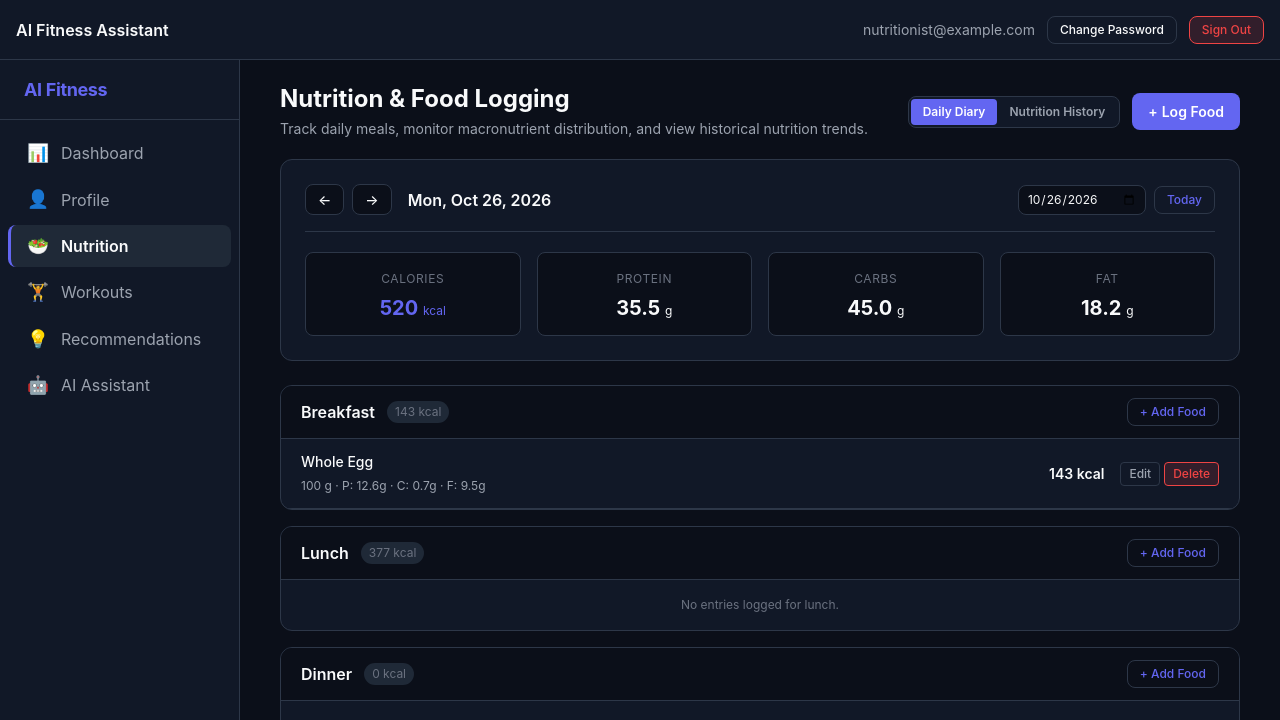
Test: Phase 8E — Nutrition & Food Logging Tests › 5. food search requests foods and renders matching results
Step 1. Click the button "+ Log Food" → [1186, 112], box [1132,93,1240,130]
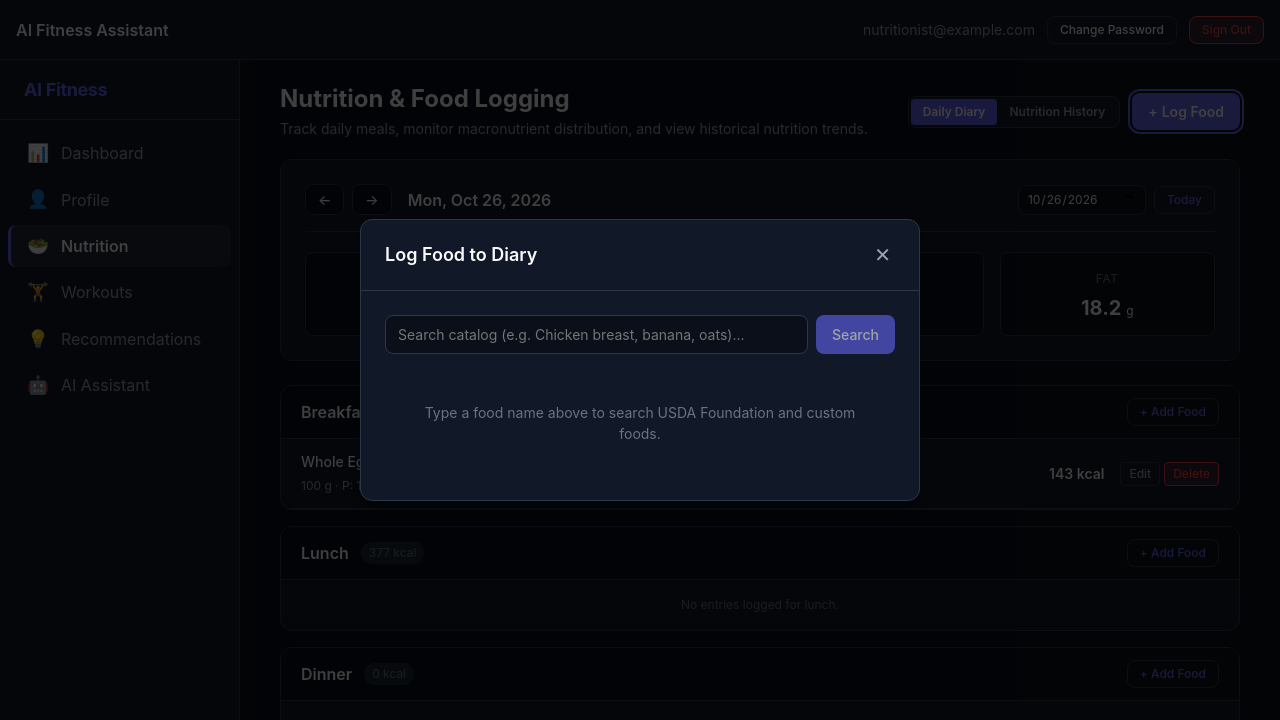
Check: the dialog is shown
Step 2. Type "egg" into the field named "search food catalog" → [596, 334], box [385,315,808,354]
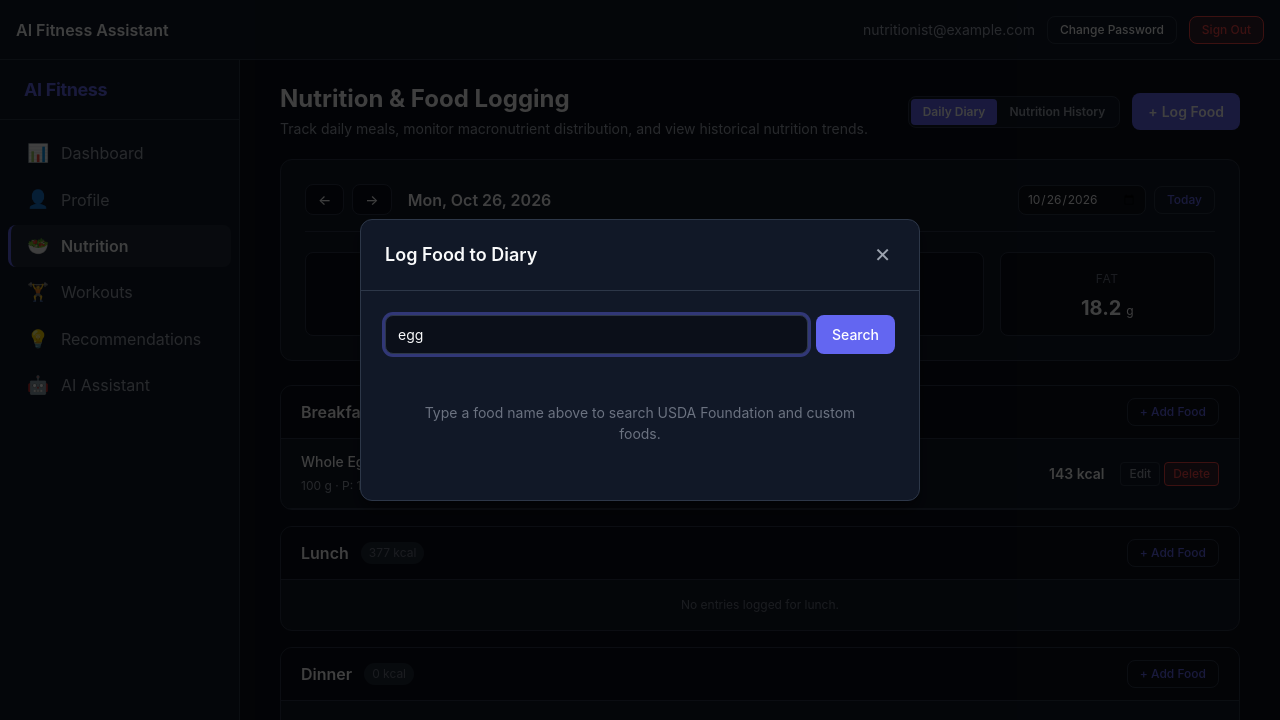
Step 3. Click the button "Search" → [856, 334], box [816,315,895,354]
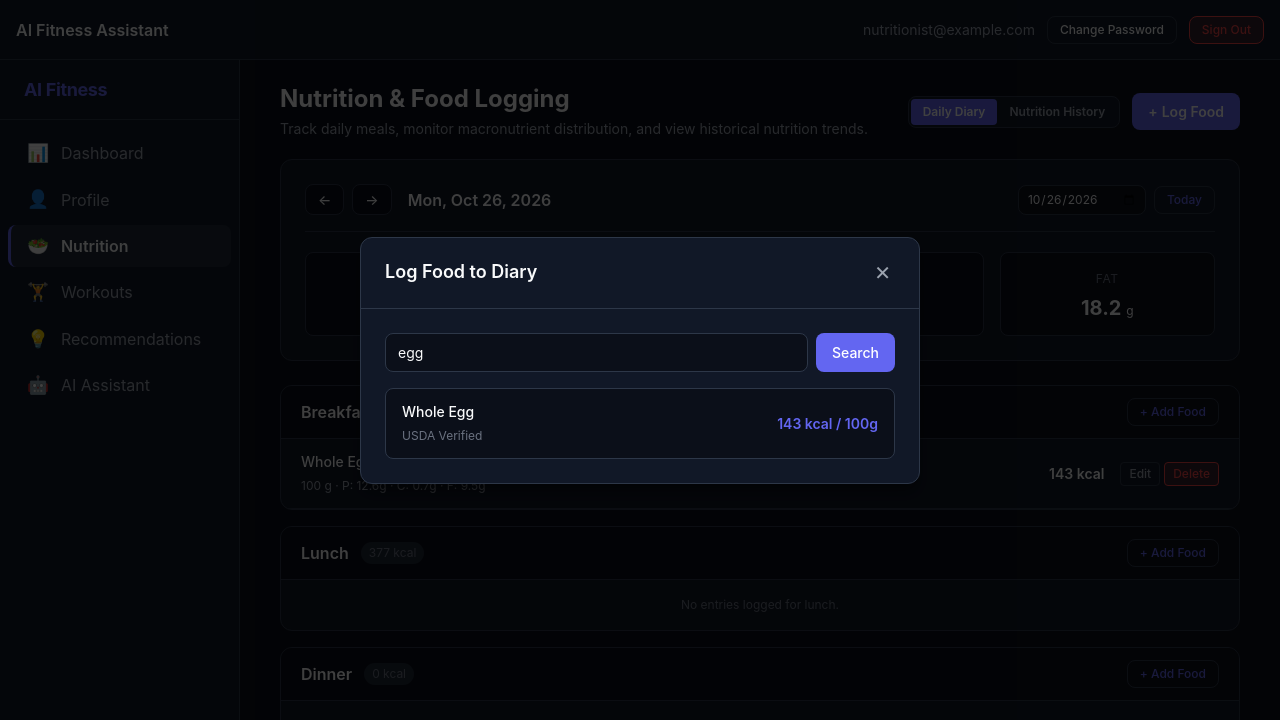
Check: the text "Whole Egg" is shown, box [402,400,482,422]
Check: the text "USDA Verified" is shown, box [402,428,482,442]
Check: the text "143 kcal / 100g" is shown, box [777,412,878,434]
